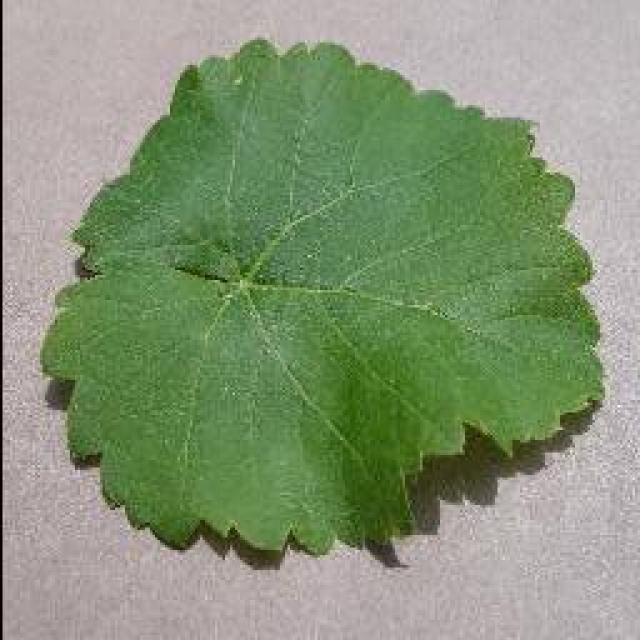Grape___healthy: (40, 40, 598, 552)
